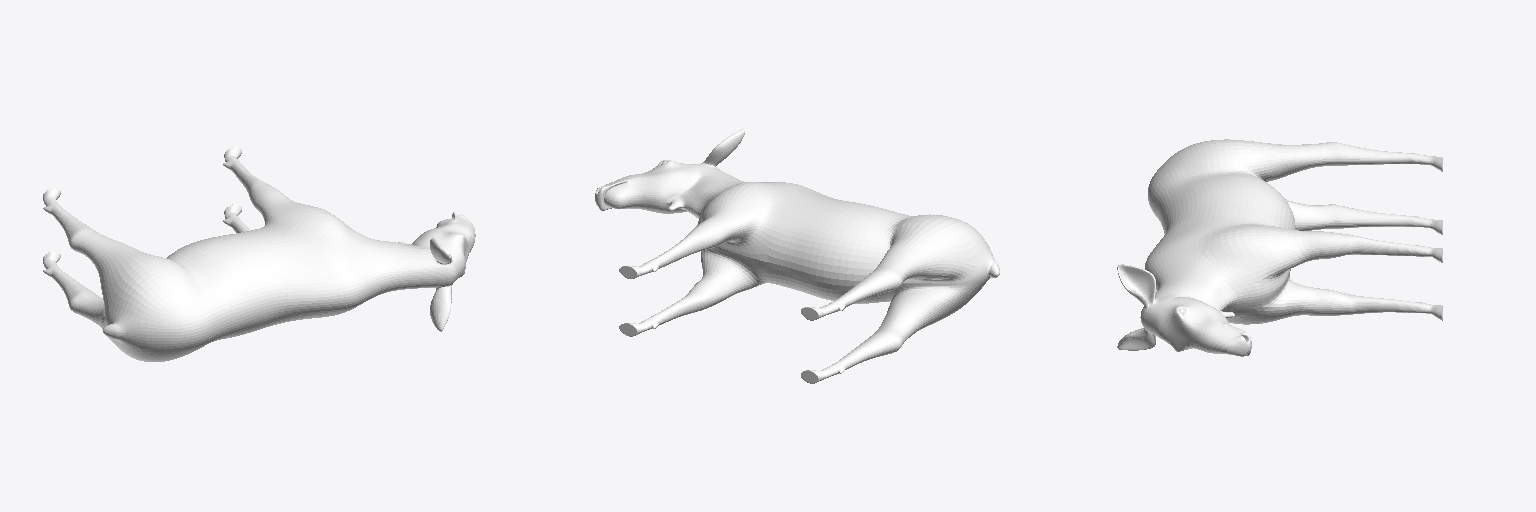
The model's file is 12959_Moose_Female_v1_l3.obj.
3 views of the same model, side by side, from view 1: azimuth 30°, elevation 25°; view 2: azimuth 150°, elevation 25°; view 3: azimuth 270°, elevation 25° (orthographic).
Parts seen in each view (by area): view 1: 12959_Moose_Female; view 2: 12959_Moose_Female; view 3: 12959_Moose_Female.
Part boxes in pixels (x1,y1,x2,y2): 12959_Moose_Female: (43,147,475,361); 12959_Moose_Female: (595,129,999,383); 12959_Moose_Female: (1117,139,1442,356).
Bounding box in the file's own units: 210 × 48.99 × 154.